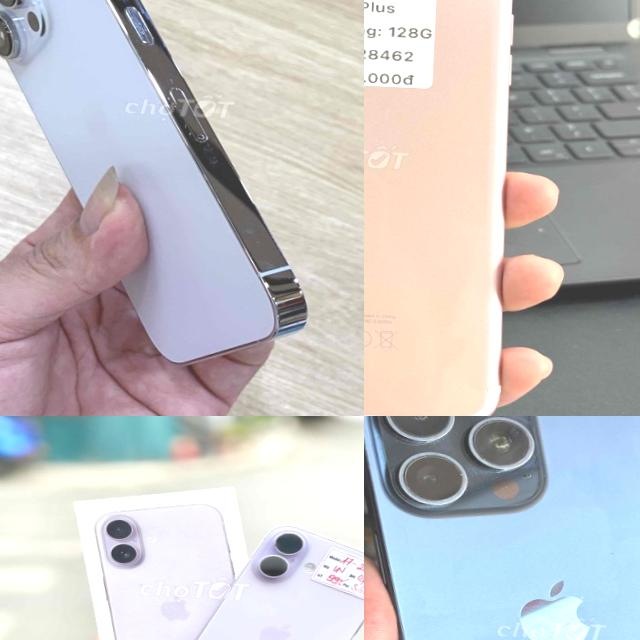gen_14: (0, 0, 359, 372)
gen_15: (364, 416, 640, 640)
gen_17: (165, 514, 364, 640)
gen_7_8: (364, 0, 513, 416)
physical_damage: (364, 416, 556, 513)
scratch: (514, 582, 600, 640), (401, 410, 438, 416)
